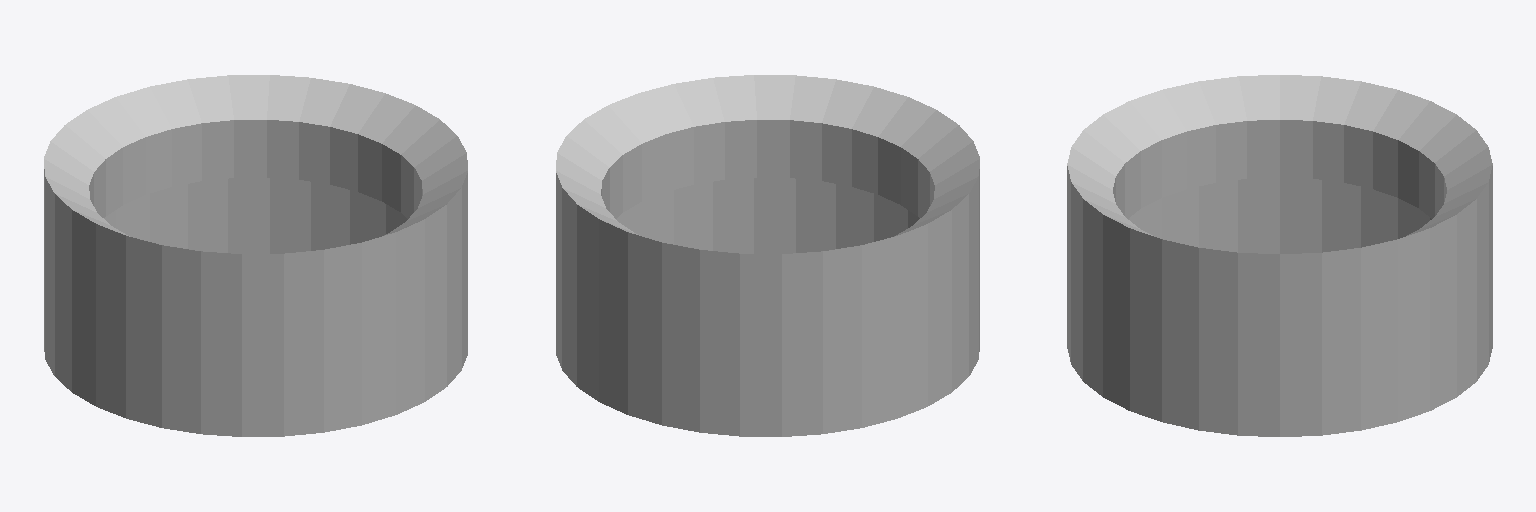
Rendered from drill_casing.obj.
3 views of the same model, side by side, from view 1: azimuth 30°, elevation 25°; view 2: azimuth 150°, elevation 25°; view 3: azimuth 270°, elevation 25° (orthographic).
Visible parts, largest first — view 1: Cylinder.007_Cylinder.008; view 2: Cylinder.007_Cylinder.008; view 3: Cylinder.007_Cylinder.008.
Boxes of the visible parts, x1=… form: Cylinder.007_Cylinder.008: x1=44, y1=75, x2=467, y2=436; Cylinder.007_Cylinder.008: x1=556, y1=75, x2=979, y2=436; Cylinder.007_Cylinder.008: x1=1067, y1=75, x2=1492, y2=436.
Bounding box in the file's own units: 5.35 × 2.54 × 5.35.